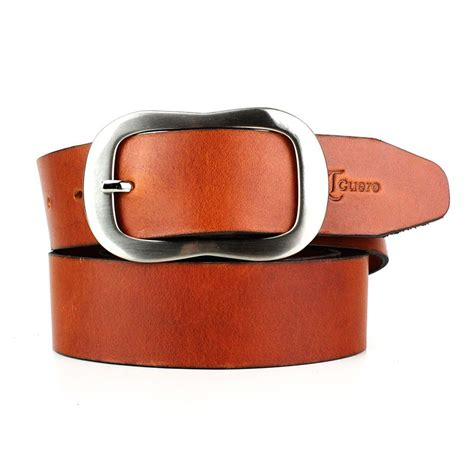cuero: (37, 126, 450, 369)
